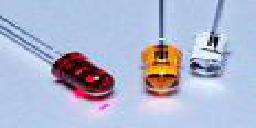LED: (3, 16, 116, 97), (138, 1, 182, 96), (188, 1, 231, 79)
